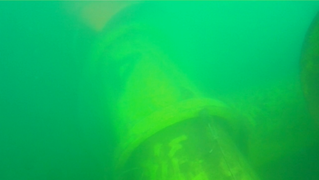4: (107, 50, 142, 105)
leak: (69, 1, 124, 29)
pipe: (87, 19, 263, 180), (224, 76, 319, 166), (299, 9, 319, 121)
